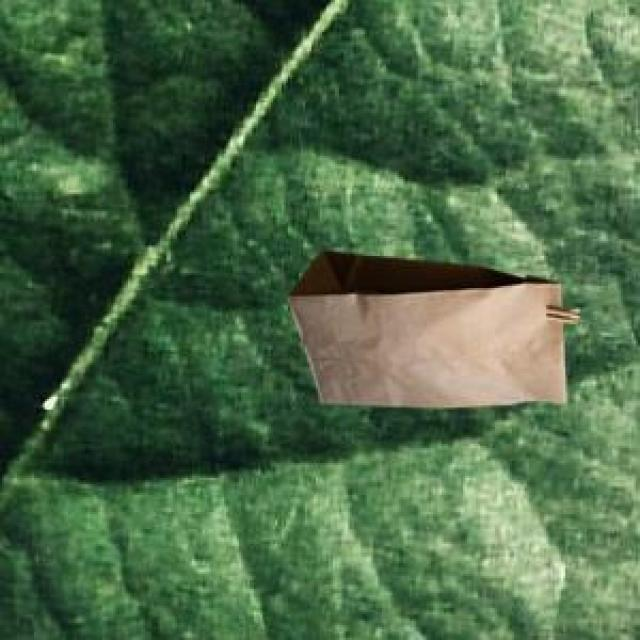paper: (284, 248, 574, 403)
